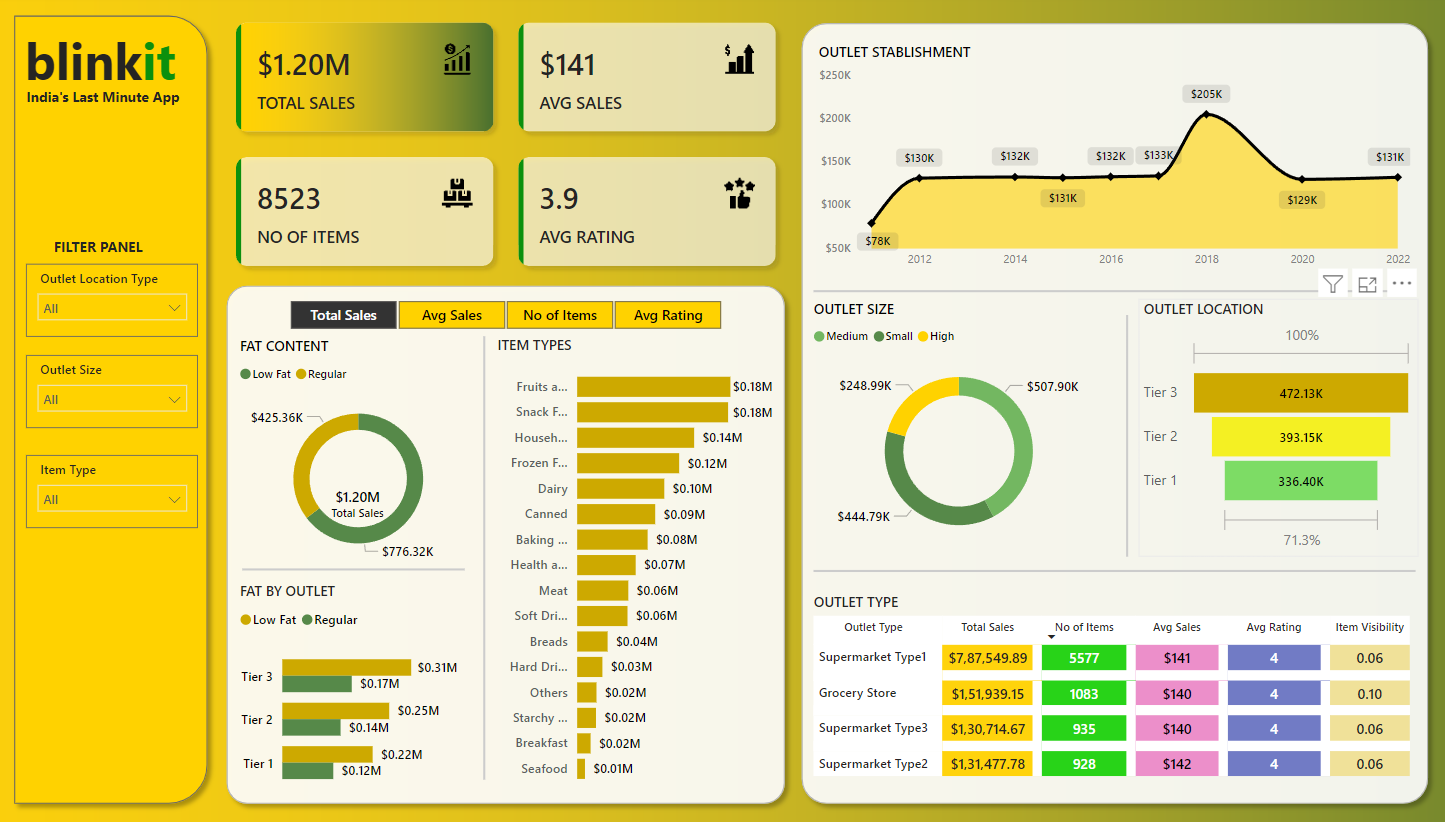

The page's visual inventory and layout, read from the dashboard file:
{"tool":"powerbi","page":{"name":"Page 1","canvas":[1400,800],"ordinal":0},"visuals":[{"type":"shape","box":[8.6,11.4,204.3,777.1],"z":0},{"type":"textbox","box":[22.9,25.7,164.3,77.1],"z":1000},{"type":"textbox","box":[24.3,84.3,167.1,28.6],"z":2000},{"type":"cardVisual","fields":{"Data":["BlinkIT Grocery Data.Total sales","BlinkIT Grocery Data.Avg Sales","BlinkIT Grocery Data.No of Items","BlinkIT Grocery Data.Avg rating"]},"box":[214.3,10,555.7,268.6],"z":3000},{"type":"shape","box":[212.9,271.4,555.7,517.1],"z":4000},{"type":"donutChart","title":"FAT CONTENT","fields":{"Y":["BlinkIT Grocery Data.Total Sales"],"Category":["BlinkIT Grocery Data.Item Fat Content"]},"box":[230.5,328.1,238.3,229.2],"z":5000},{"type":"slicer","fields":{"Values":["Metrics.Metrics"]},"box":[257.8,287.8,464.9,40.4],"z":6000},{"type":"cardVisual","title":"Total Sales","fields":{"Data":["BlinkIT Grocery Data.Total Sales"]},"box":[302.1,457,92.4,63.8],"z":7000},{"type":"clusteredBarChart","title":"FAT BY OUTLET","fields":{"Y":["BlinkIT Grocery Data.Total Sales"],"Category":["BlinkIT Grocery Data.Outlet Location Type"],"Series":["BlinkIT Grocery Data.Item Fat Content"]},"box":[230,564.3,220,214.3],"z":8000},{"type":"shape","box":[237.1,548.6,214.3,8.6],"z":9000},{"type":"shape","box":[450,328.6,40,427.1],"z":10000},{"type":"barChart","title":"ITEM TYPES","fields":{"Y":["BlinkIT Grocery Data.Total Sales"],"Category":["BlinkIT Grocery Data.Item Type"]},"box":[478.6,327.1,275.7,442.9],"z":11000},{"type":"shape","box":[767.1,18.6,621.4,770],"z":12000},{"type":"lineChart","title":"OUTLET STABLISHMENT","fields":{"Y":["BlinkIT Grocery Data.Total Sales"],"Category":["BlinkIT Grocery Data.Outlet Establishment Year"]},"box":[787.1,45.7,580,225.7],"z":13000},{"type":"shape","box":[787.1,278.6,580,14.3],"z":14000},{"type":"donutChart","title":"OUTLET SIZE","fields":{"Y":["BlinkIT Grocery Data.Total Sales"],"Category":["BlinkIT Grocery Data.Outlet Size"]},"box":[782.9,292.9,290,248.6],"z":15000},{"type":"shape","box":[1078.6,308.6,21.4,232.9],"z":16000},{"type":"funnel","title":"OUTLET LOCATION","fields":{"Y":["Sum(BlinkIT Grocery Data.Sales)"],"Category":["BlinkIT Grocery Data.Outlet Location Type"]},"box":[1100,292.9,270,248.6],"z":17000},{"type":"shape","box":[787.1,552.9,580,4.3],"z":18000},{"type":"pivotTable","title":"OUTLET TYPE","fields":{"Rows":["BlinkIT Grocery Data.Outlet Type"],"Values":["BlinkIT Grocery Data.Total Sales","BlinkIT Grocery Data.No of Items","BlinkIT Grocery Data.Avg Sales","BlinkIT Grocery Data.Avg Rating","Avg(BlinkIT Grocery Data.Item Visibility)"]},"box":[782.9,575.7,590,190],"z":19000},{"type":"slicer","fields":{"Values":["BlinkIT Grocery Data.Outlet Location Type"]},"box":[28.6,258.6,165.7,70],"z":20000},{"type":"slicer","fields":{"Values":["BlinkIT Grocery Data.Outlet Size"]},"box":[28.6,347.1,165.7,70],"z":21000},{"type":"slicer","fields":{"Values":["BlinkIT Grocery Data.Item Type"]},"box":[28.6,442.9,165.7,70],"z":22000},{"type":"textbox","box":[50,228.6,105.7,30],"z":22001}]}

Visuals, with their boxes in screenshot pixels (x1, y1, x2, y2), scaled from the page's 1400x800 canvas onto the 1445x822 screenshot:
shape: 9 12 220 810
textbox: 24 26 193 106
textbox: 25 87 198 116
cardVisual - BlinkIT Grocery Data.Total sales x BlinkIT Grocery Data.Avg Sales: 221 10 795 286
shape: 220 279 793 810
"FAT CONTENT" donutChart: 238 337 484 573
slicer - Metrics.Metrics: 266 296 746 337
"Total Sales" cardVisual: 312 470 407 535
"FAT BY OUTLET" clusteredBarChart: 237 580 464 800
shape: 245 564 466 573
shape: 464 338 506 776
"ITEM TYPES" barChart: 494 336 779 791
shape: 792 19 1433 810
"OUTLET STABLISHMENT" lineChart: 812 47 1411 279
shape: 812 286 1411 301
"OUTLET SIZE" donutChart: 808 301 1107 556
shape: 1113 317 1135 556
"OUTLET LOCATION" funnel: 1135 301 1414 556
shape: 812 568 1411 573
"OUTLET TYPE" pivotTable: 808 592 1417 787
slicer - BlinkIT Grocery Data.Outlet Location Type: 30 266 201 338
slicer - BlinkIT Grocery Data.Outlet Size: 30 357 201 429
slicer - BlinkIT Grocery Data.Item Type: 30 455 201 527
textbox: 52 235 161 266
